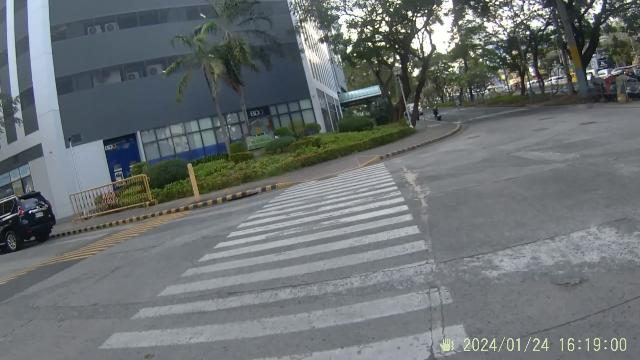car: (0, 187, 60, 251)
